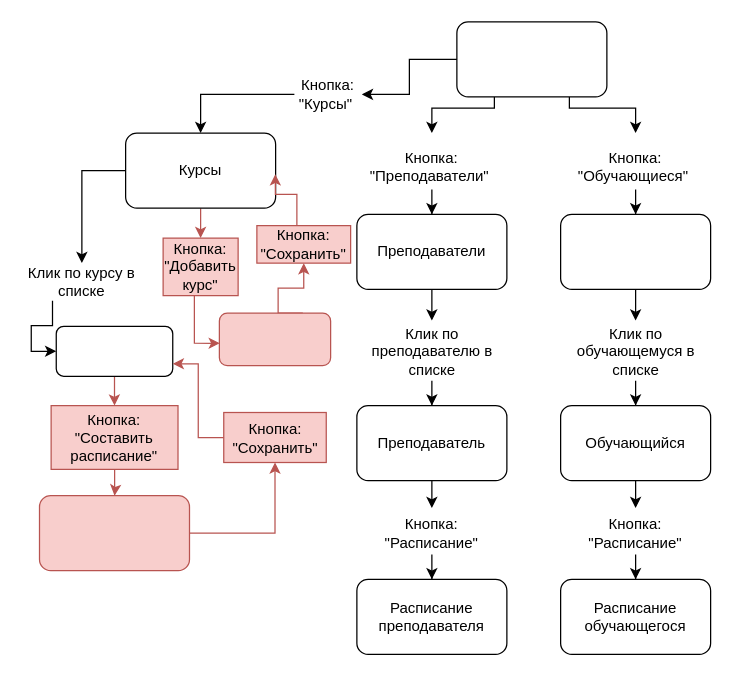
Image size: 733x676. Some labels were removed from this diagram. Each missing label, with the centre of its shape:
Главная страница: (x=531, y=59)
Добавление курса: (x=274, y=339)
Курс: (x=114, y=350)
Обучающиеся: (x=635, y=251)
Составление расписания: (x=114, y=532)
